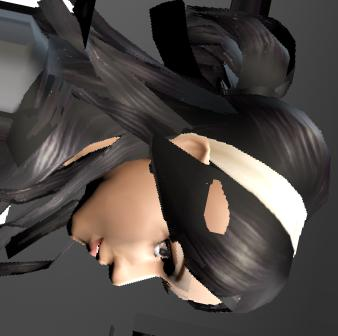clip: (205, 175, 230, 230)
